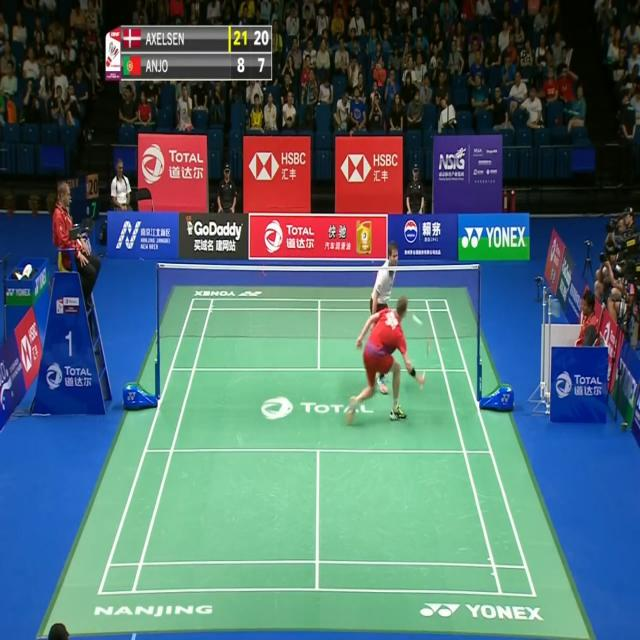Player1: (344, 293, 436, 439)
Player2: (364, 234, 400, 312)
